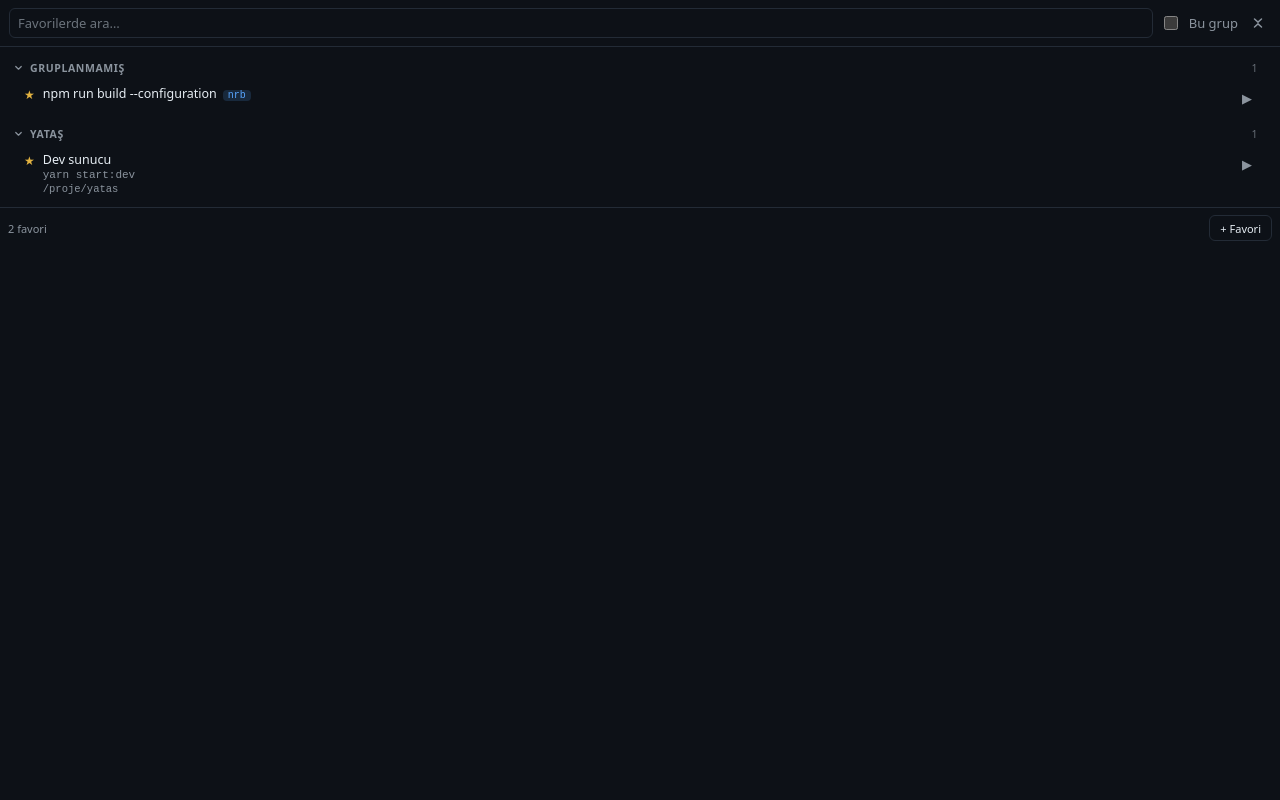
formdan var olan komutu eklemek › komutu değiştirince uyarı kalkıyor ve yeni komut ekleniyor
The width and height of the screenshot is (1280, 800).
Click the button "+ Favori": (1241,228) x1=1209 y1=215 x2=1272 y2=241
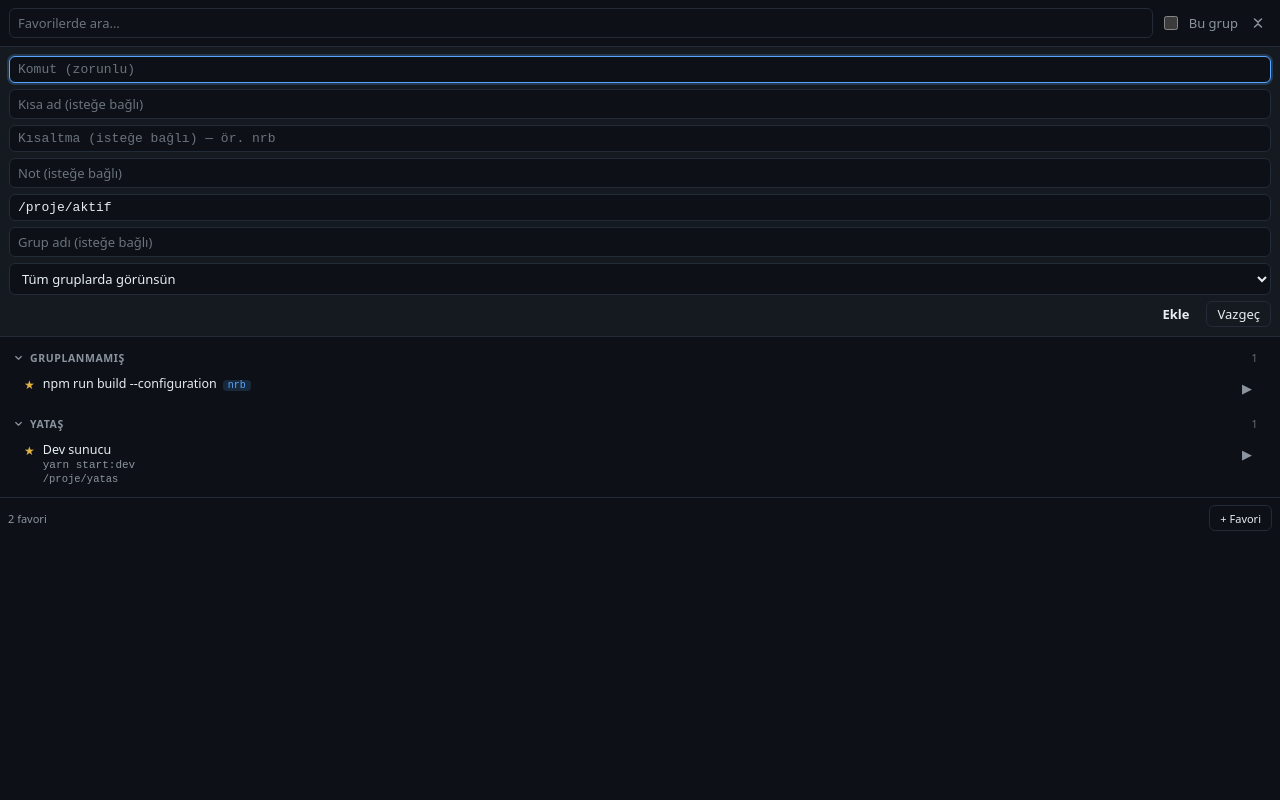
In the field with placeholder "Komut (zorunlu)": (640,70) x1=9 y1=56 x2=1271 y2=83, type "  yarn start:dev "
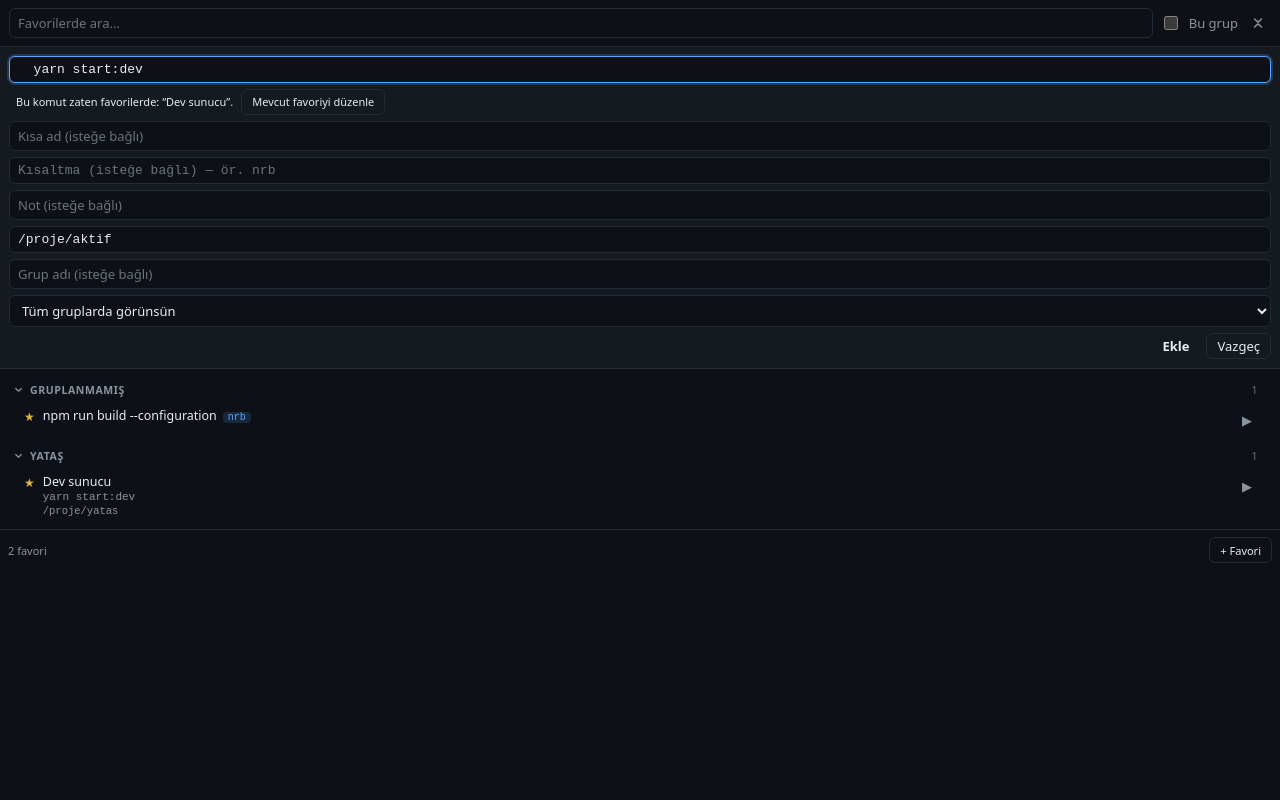
In the field with placeholder "Kısaltma (isteğe bağlı) — ör. nrb": (640,170) x1=9 y1=157 x2=1271 y2=184, type "yysd"
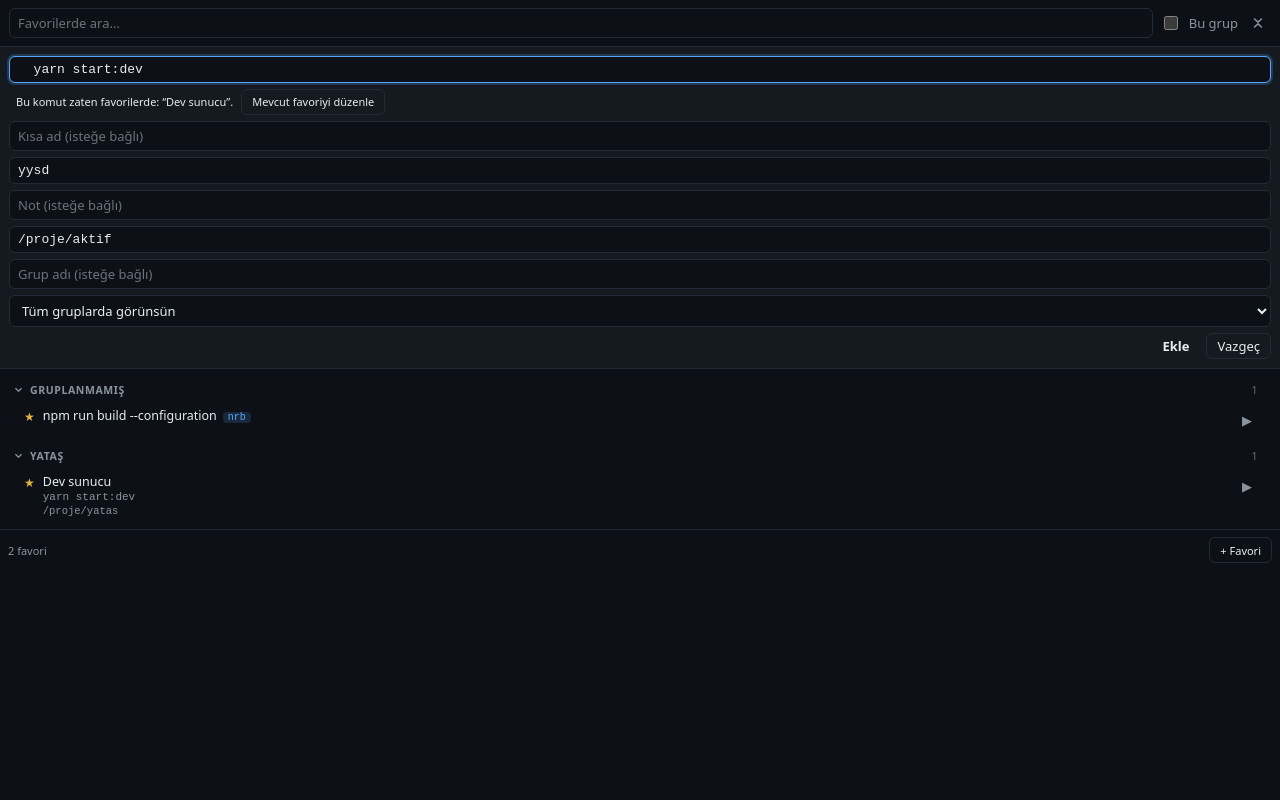
Replace the text in the 2nd field with "yarn start:prod": (640,70) x1=9 y1=56 x2=1271 y2=83
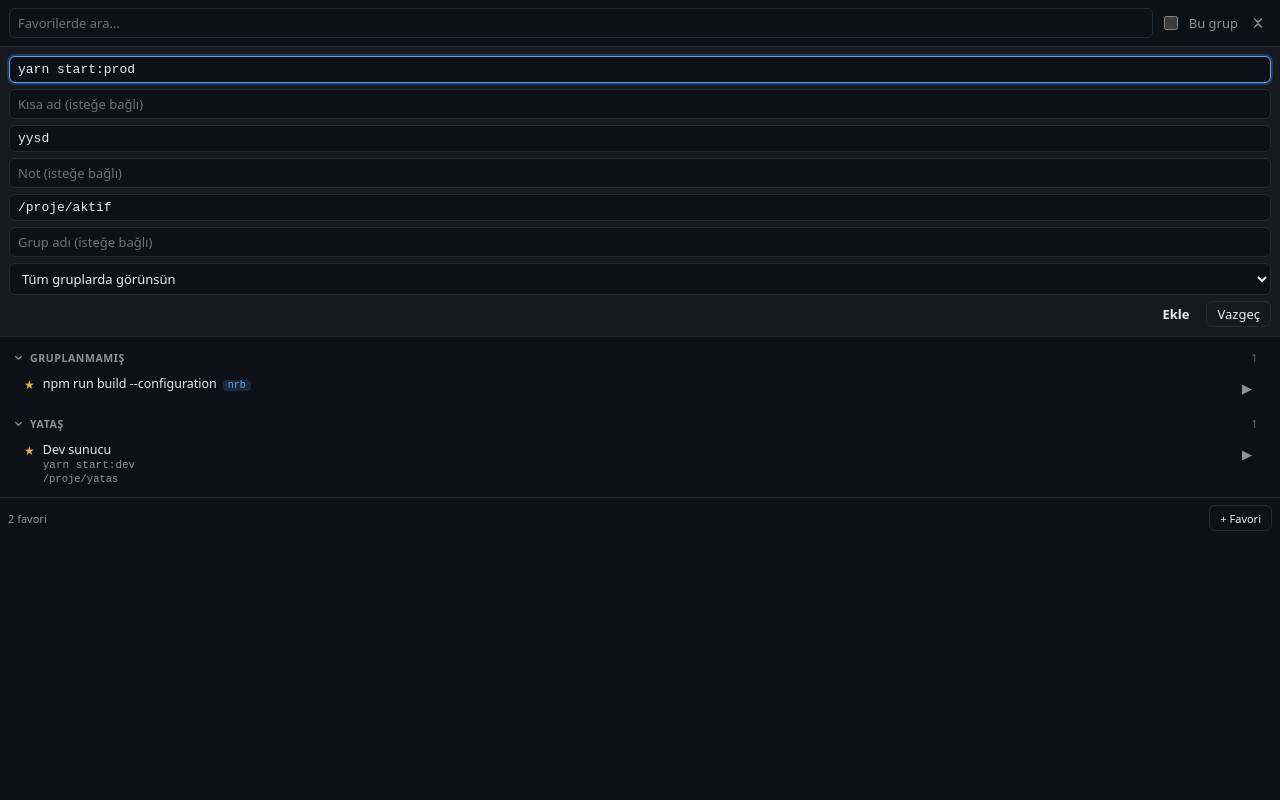
Expected: the message "Bu komut zaten favorilerde: “Dev sunucu”. Mevcut favoriyi düzenle" is gone
Click the button "Ekle": (1176,314) x1=1152 y1=301 x2=1200 y2=327
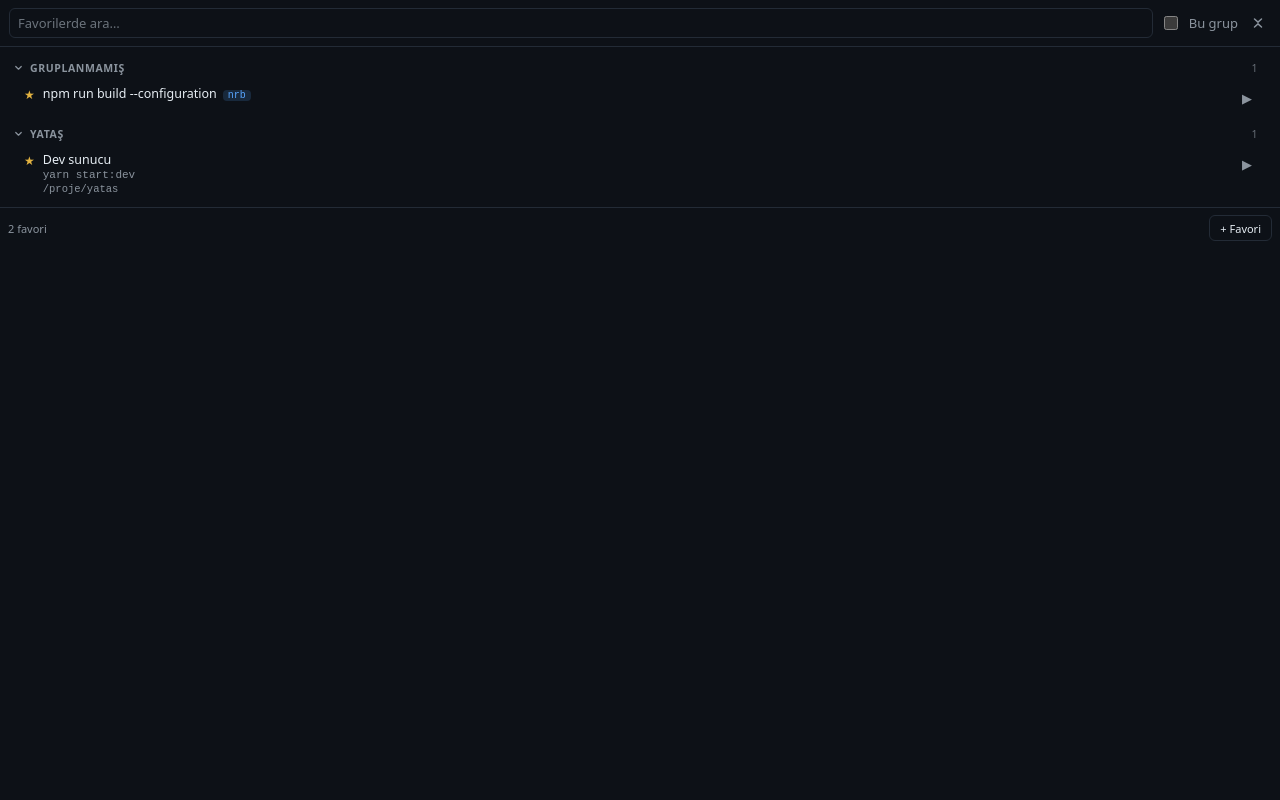
Expected: the element with class "fav-form" is gone
